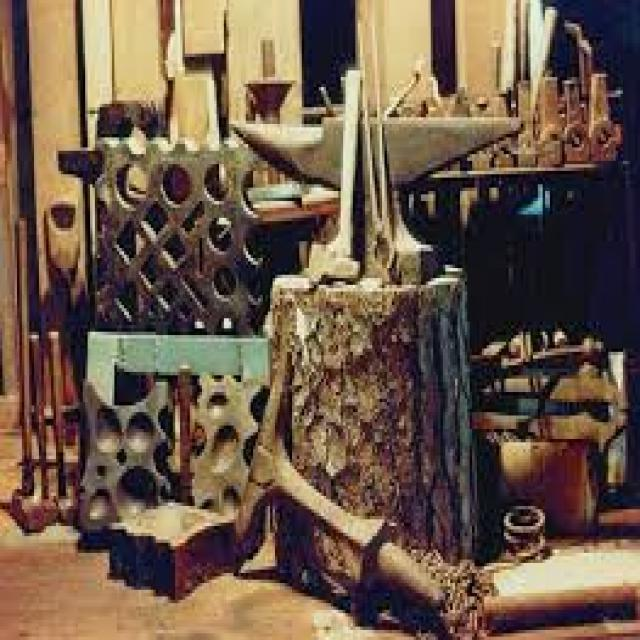hammer: (303, 61, 374, 292)
